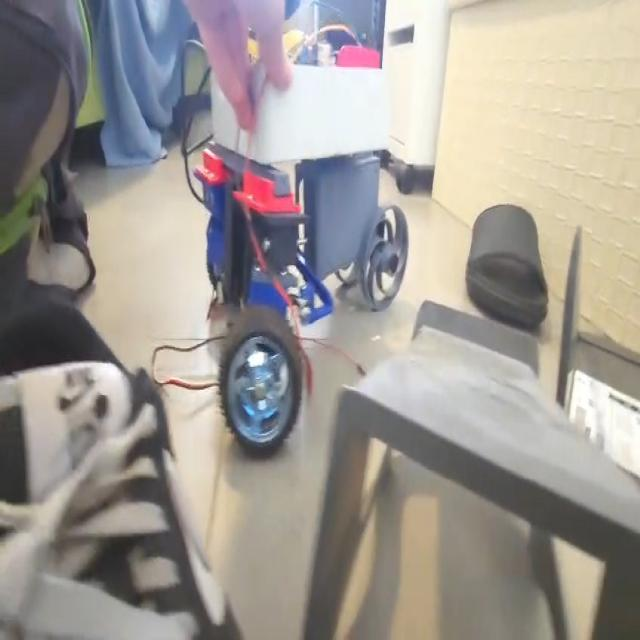Robot: (193, 31, 410, 462)
